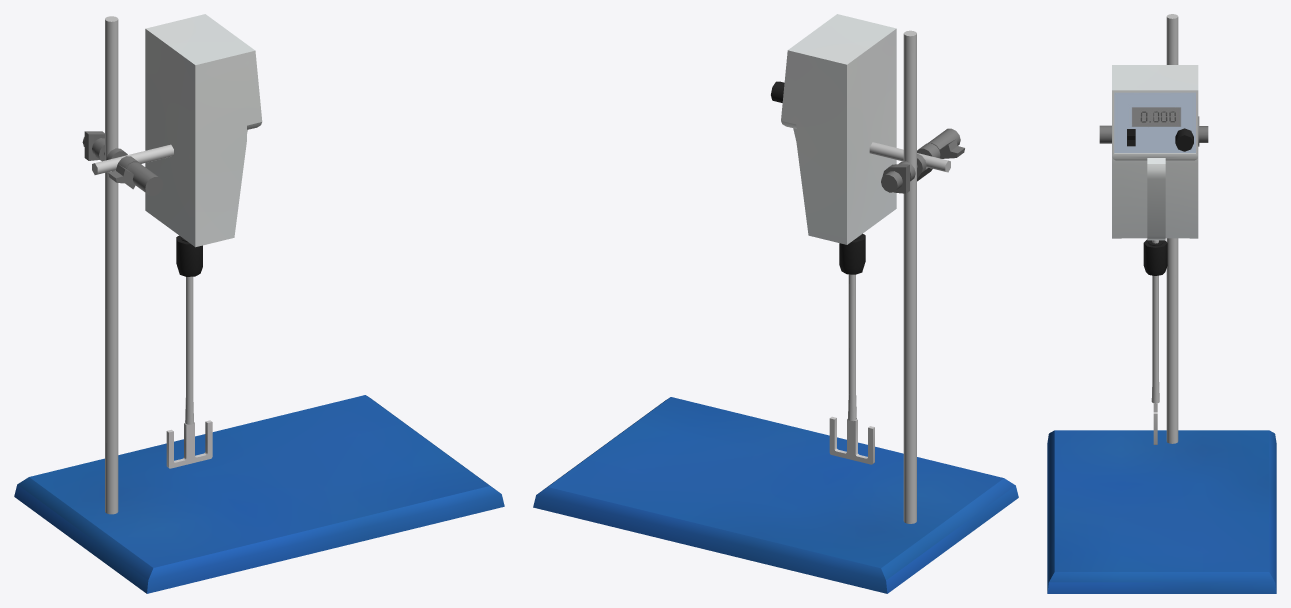
Rendered from SM_电动搅拌机.fbx.
The picture shows the model from 3 angles, left to right: view 1: azimuth 30°, elevation 25°; view 2: azimuth 150°, elevation 25°; view 3: azimuth 270°, elevation 25°; orthographic projection. The views are drawn at different scales.
Parts seen in each view (by area): view 1: SM_电动搅拌机; view 2: SM_电动搅拌机; view 3: SM_电动搅拌机.
Boxes of the visible parts, x1,y1,x2,y2 form: SM_电动搅拌机: [14, 14, 504, 593]; SM_电动搅拌机: [533, 14, 1018, 593]; SM_电动搅拌机: [1047, 14, 1276, 593].
Size of the model in its own units: 0.4285 by 0.5867 by 0.2755.
